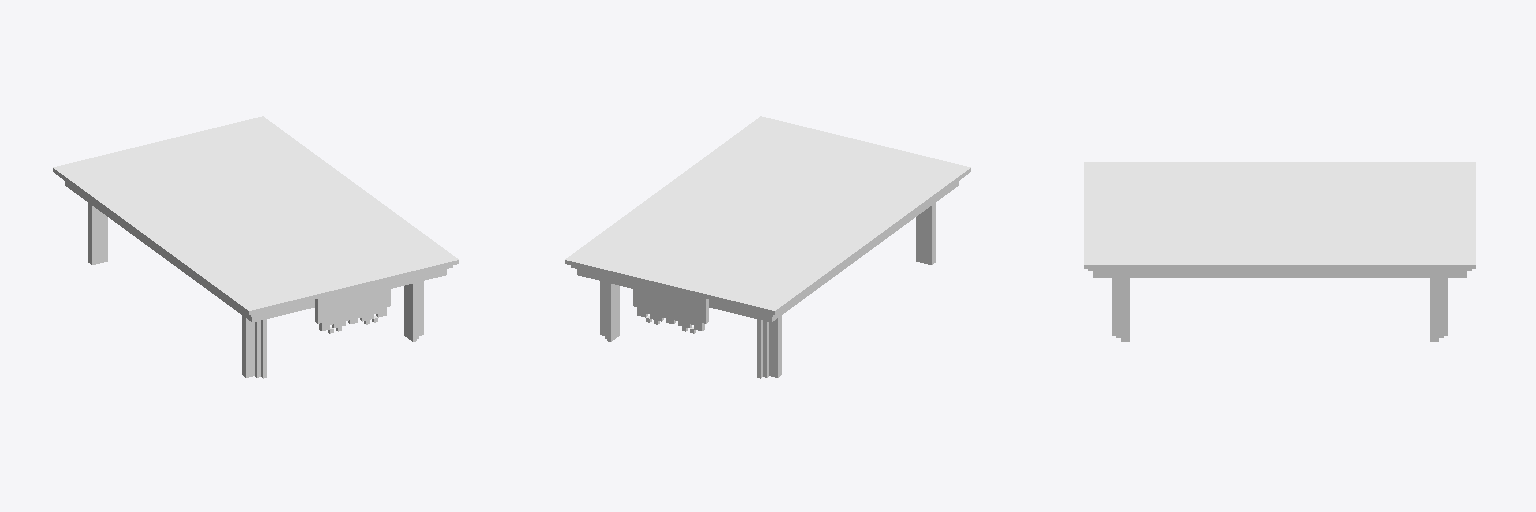
The model's file is table2.obj.
The picture shows the model from 3 angles: view 1: azimuth 30°, elevation 25°; view 2: azimuth 150°, elevation 25°; view 3: azimuth 270°, elevation 25°; orthographic projection.
Visible parts, largest first — view 1: object 1; view 2: object 1; view 3: object 1.
Boxes of the visible parts, box(x1,y1,x2,y2) form: object 1: box(53, 116, 458, 378); object 1: box(565, 116, 970, 378); object 1: box(1084, 162, 1475, 341).
Bounding box in the file's own units: 5.2 × 2 × 8.4.